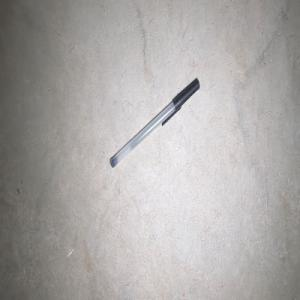Pen: (110, 78, 199, 167)
